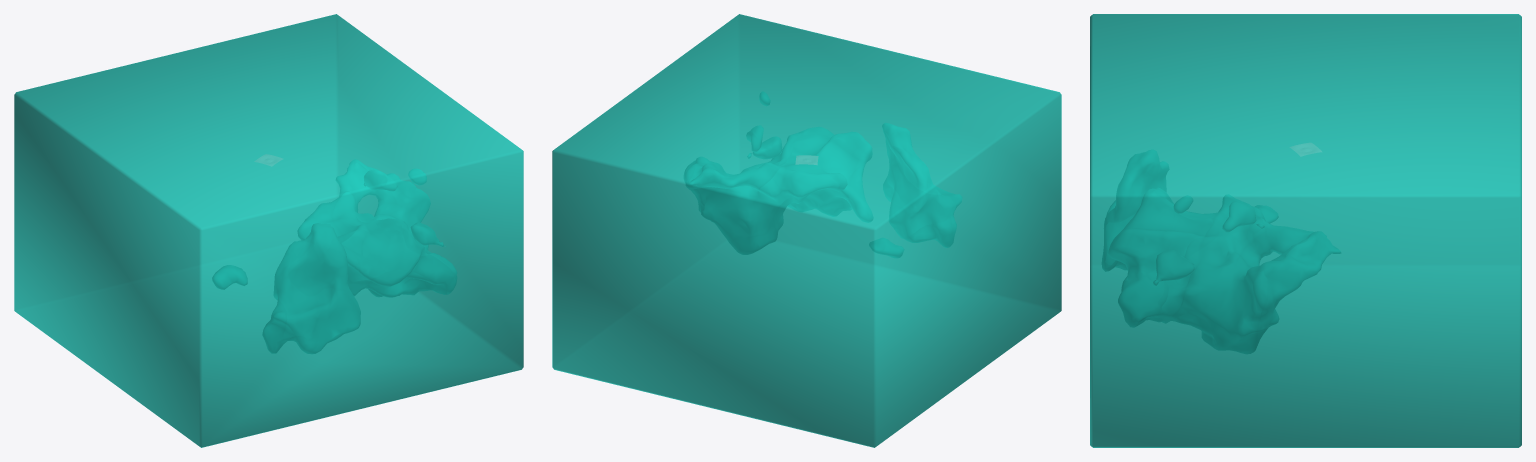
The picture shows the model from 3 angles, left to right: view 1: azimuth 30°, elevation 25°; view 2: azimuth 150°, elevation 25°; view 3: azimuth 270°, elevation 25°; orthographic projection. The views are drawn at different scales.
Parts seen in each view (by area): view 1: Liquid_Domain; view 2: Liquid_Domain; view 3: Liquid_Domain.
Part boxes in pixels (box(x1,y1,x2,y2)): Liquid_Domain: box(14, 14, 523, 447); Liquid_Domain: box(552, 14, 1061, 447); Liquid_Domain: box(1090, 14, 1521, 447).
Size of the model in its own units: 391 by 254 by 391.
